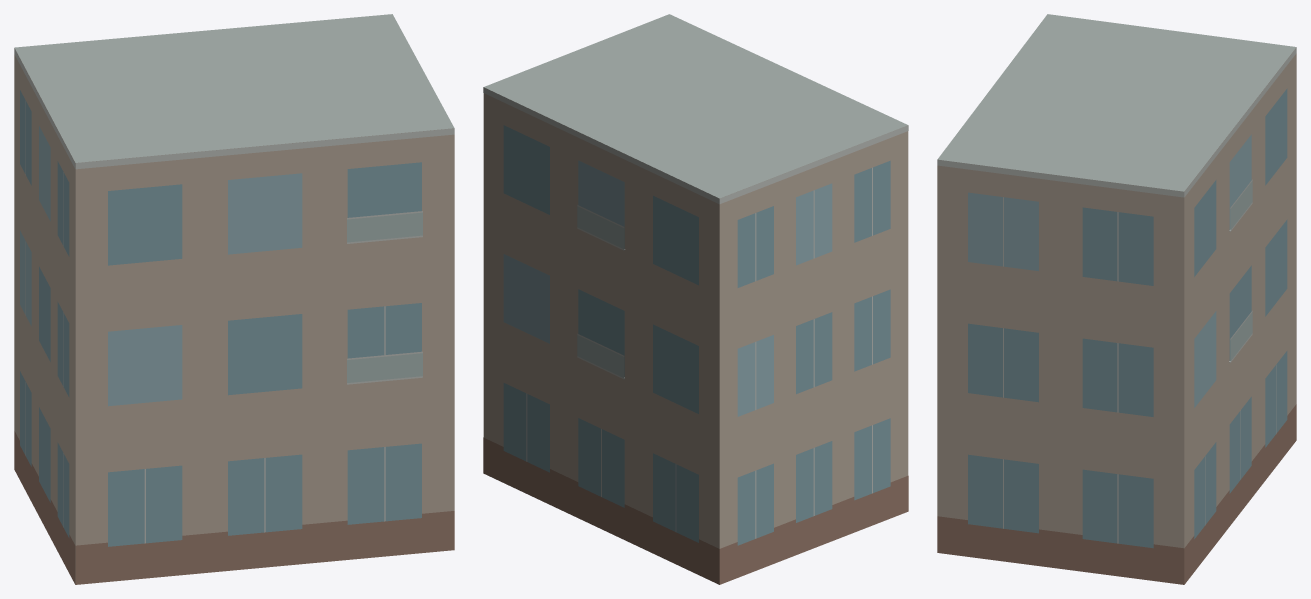
Rendered from survey-upis-32742319.glb.
The picture shows the model from 3 angles, left to right: view 1: azimuth 30°, elevation 25°; view 2: azimuth 150°, elevation 25°; view 3: azimuth 270°, elevation 25°; orthographic projection. The views are drawn at different scales.
Parts seen in each view (by area): view 1: survey-upis-32742319.tmp; view 2: survey-upis-32742319.tmp; view 3: survey-upis-32742319.tmp.
Boxes of the visible parts, <box> form: survey-upis-32742319.tmp: <box>14,14,454,584</box>; survey-upis-32742319.tmp: <box>483,14,908,584</box>; survey-upis-32742319.tmp: <box>937,14,1296,584</box>.
Size of the model in its own units: 15.7 by 16.2 by 13.43.
